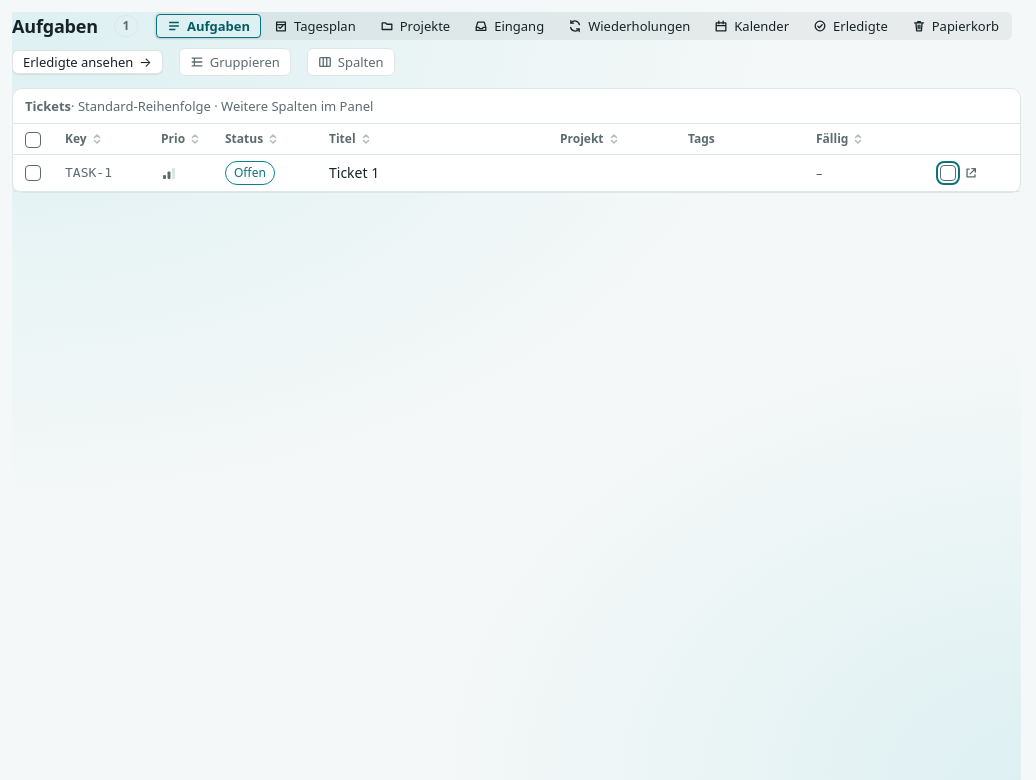
Scenario: ticket table › springs back and shows an error flag when checking fails (UI-5)
Click the checkbox named "TASK-1 erledigt" at coordinates (948, 173), box top-left (940, 165), bottom-right (956, 181)
Wait 16000 ms
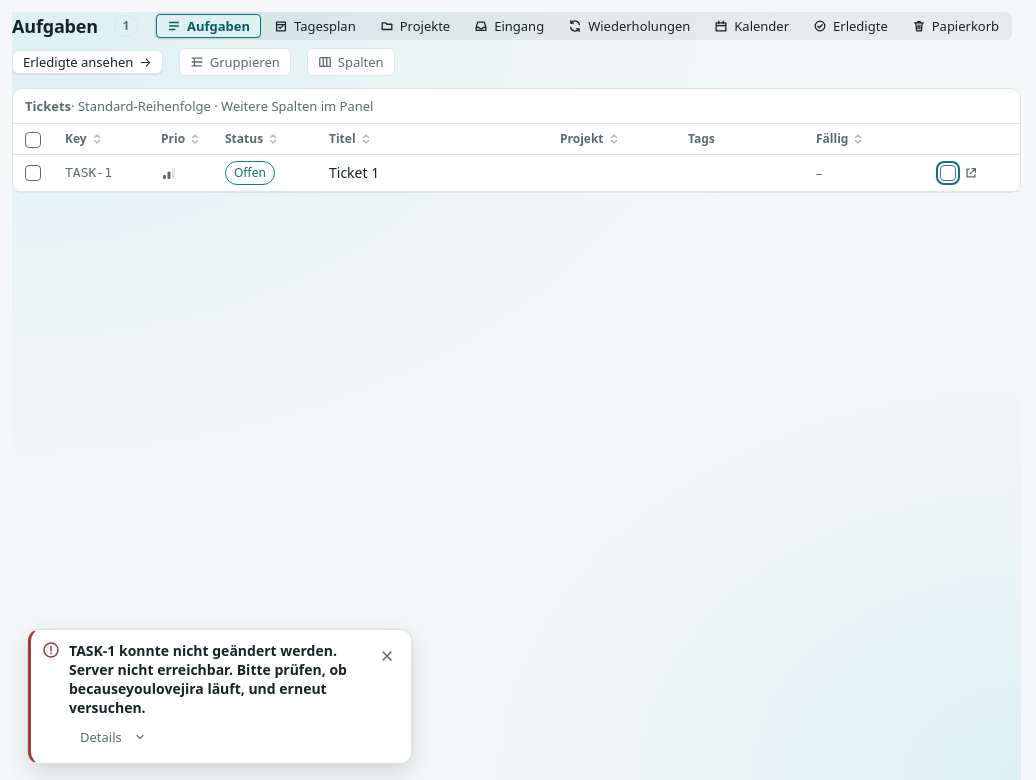
Now the list item shows "konnte nicht geändert werden", box top-left (69, 641), bottom-right (347, 717)
Click the button named "Benachrichtigung schließen" at coordinates (387, 656), box top-left (371, 640), bottom-right (403, 672)
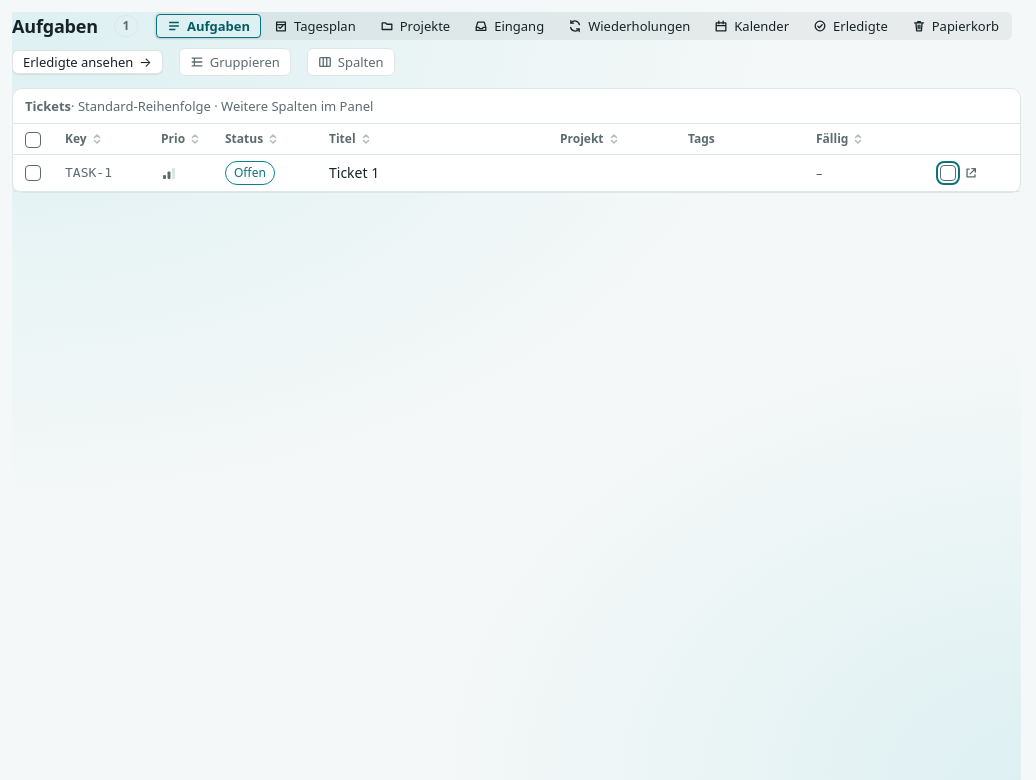
Now the list item is gone
